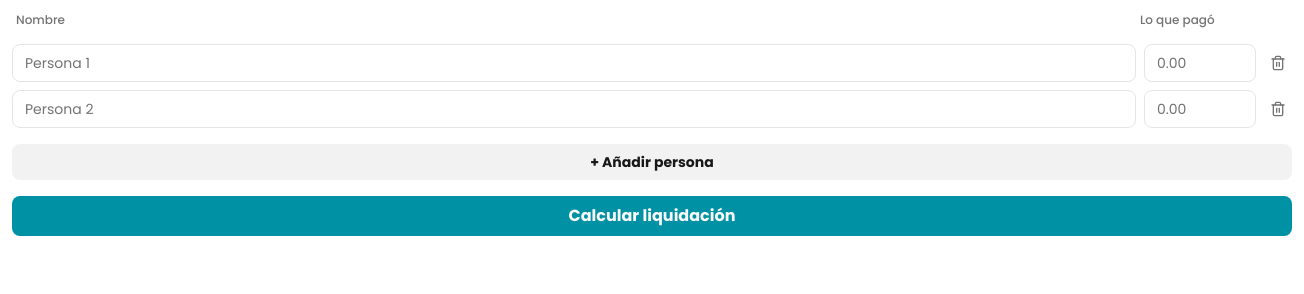
Test case: ExpenseSettlement › muestra error si un monto es inválido
Click the button "Calcular liquidación" at (652, 216), box [12, 196, 1292, 236]
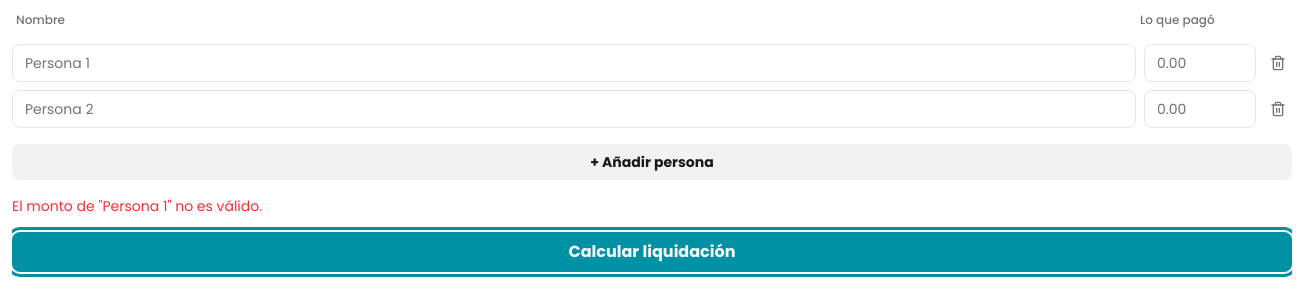
Result: the text "El monto de \"Persona 1\" no es válido." is shown at [12, 196, 262, 216]
